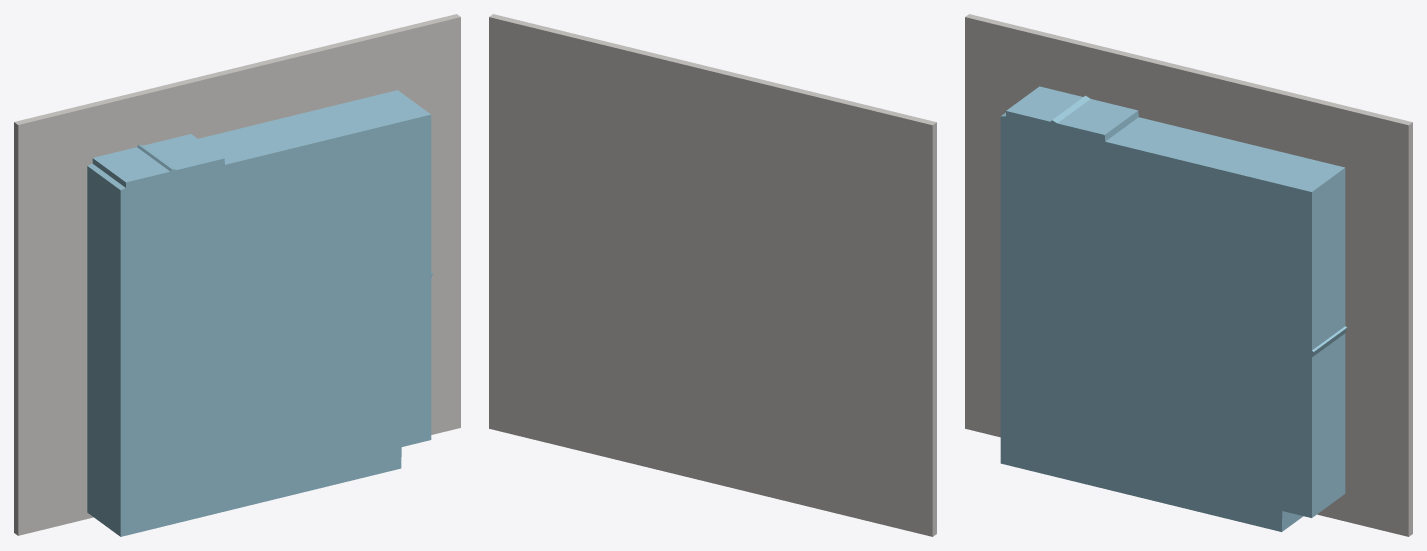
Rendered from plan_home_A.glb.
3 renders of one model, left to right at view 1: azimuth 30°, elevation 25°; view 2: azimuth 150°, elevation 25°; view 3: azimuth 330°, elevation 25°, orthographic.
Visible parts, largest first — view 1: world; view 2: world; view 3: world.
Boxes of the visible parts, box(x1,y1,x2,y2) form: world: box(14, 14, 460, 536); world: box(489, 14, 936, 536); world: box(965, 14, 1412, 536).
Size of the model in its own units: 9.17 by 8.13 by 1.35.
